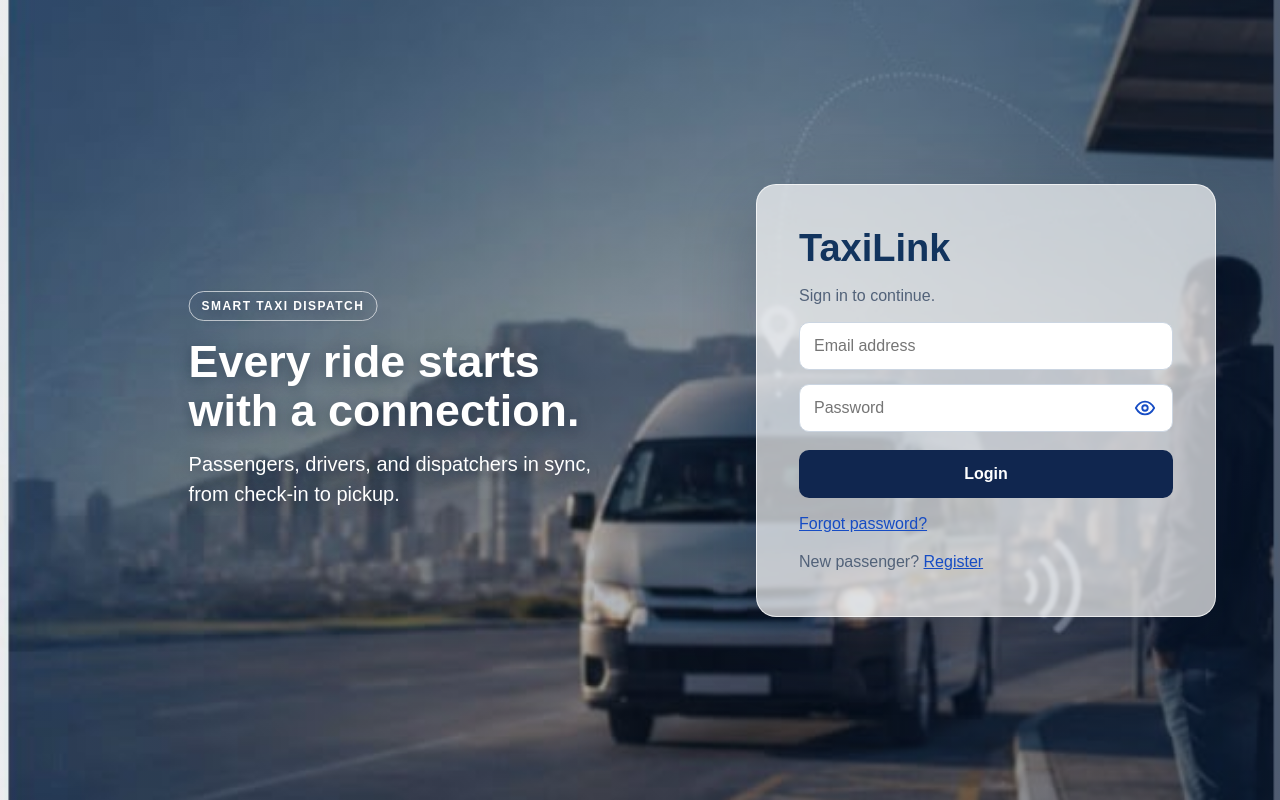
LoginPage email verification › shows an email or password error for invalid credentials
This screenshot has width=1280, height=800.
In the field with placeholder "Email address": [986, 346] box [799,322,1173,370], type "passenger@example.com"
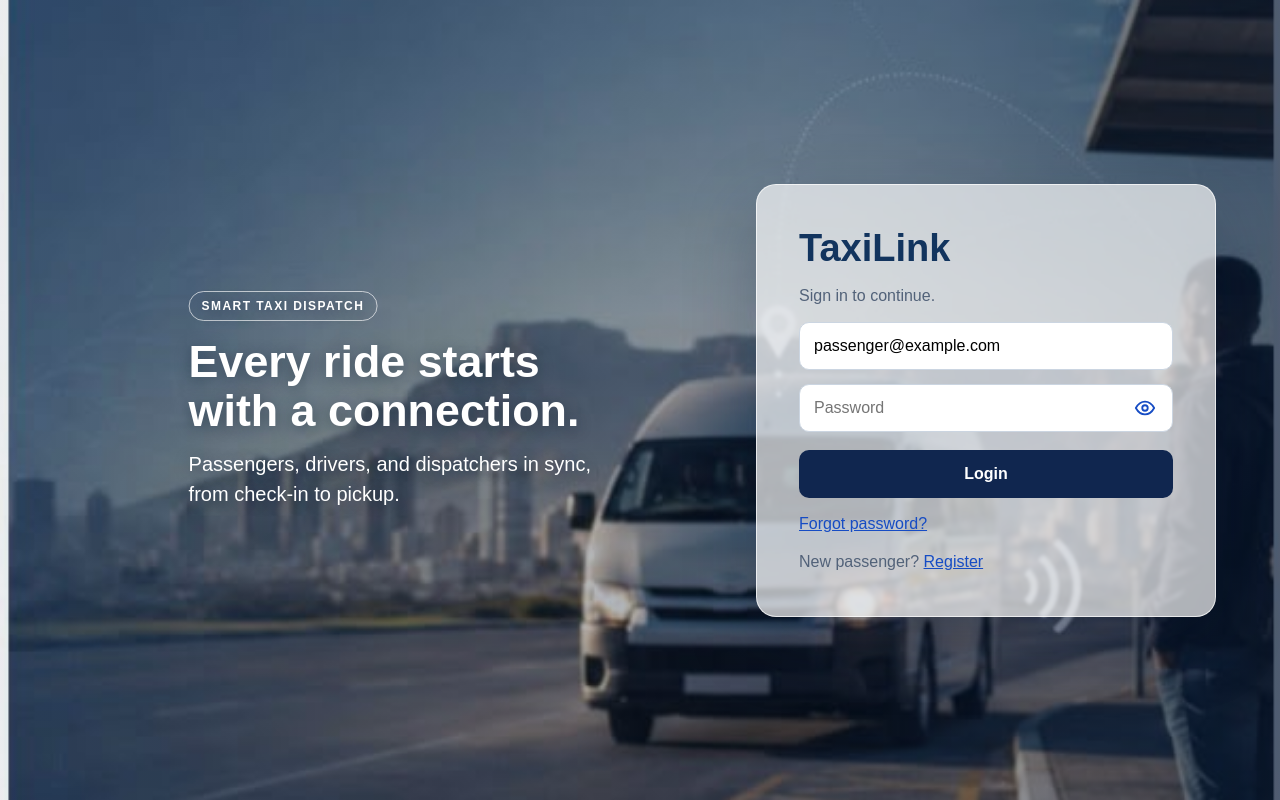
In the password field with placeholder "Password": [986, 408] box [799,384,1173,432], type "WrongPassword123!"
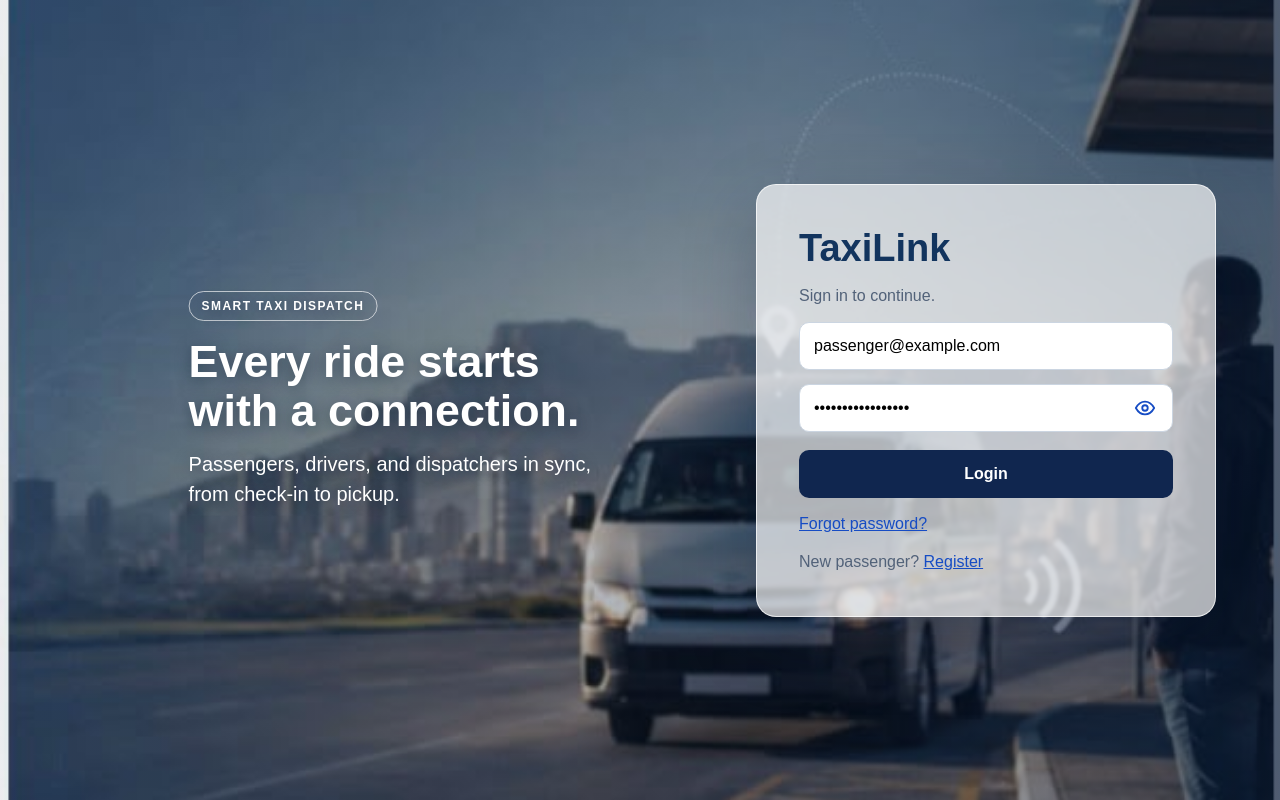
Click the button "Login": [986, 474] box [799,450,1173,498]
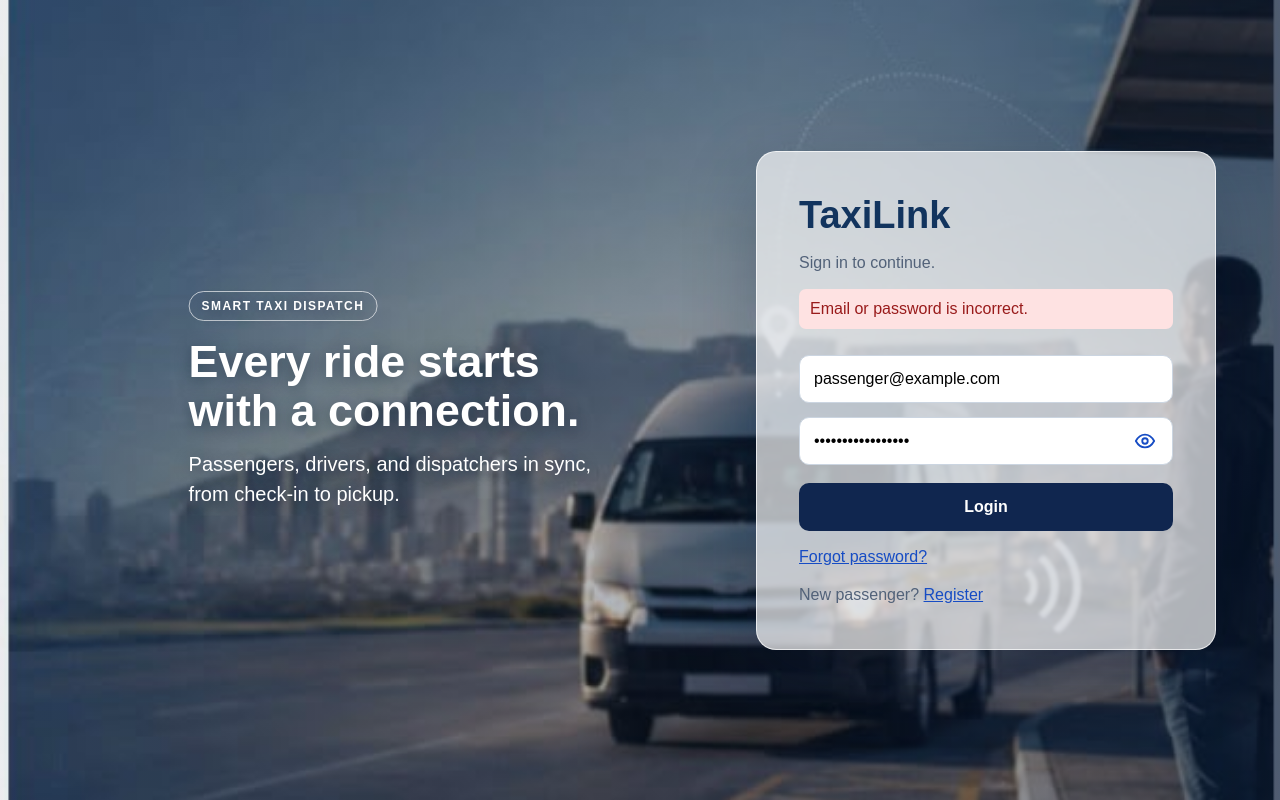
Expected: the text "Email or password is incorrect." is shown, [799,288,1173,328]
